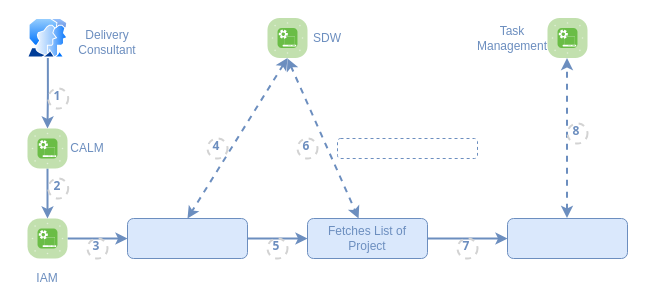
The diagram is 645 pixels wide and 305 high, and some of its shapes have lost their labels. The centre of each missing label's shape, as x and y in pixels:
API call with customer id: the point at 407,148
Create & Save Issue: the point at 567,238
Fetches List of Customers: the point at 187,238
